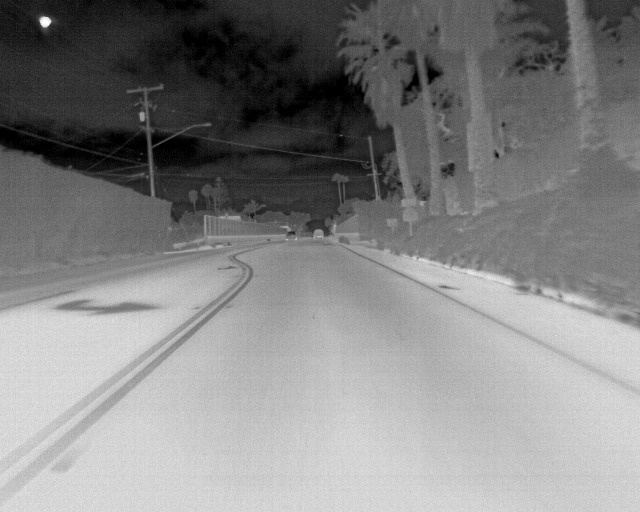vehicle: (312, 227, 324, 240), (286, 229, 300, 240)
